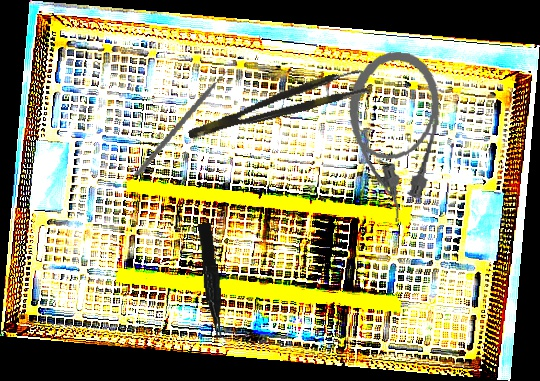Cannula: (337, 47, 446, 226)
Chopper: (133, 59, 240, 189)
Tissue Forceps: (183, 66, 369, 142), (197, 222, 225, 340)
